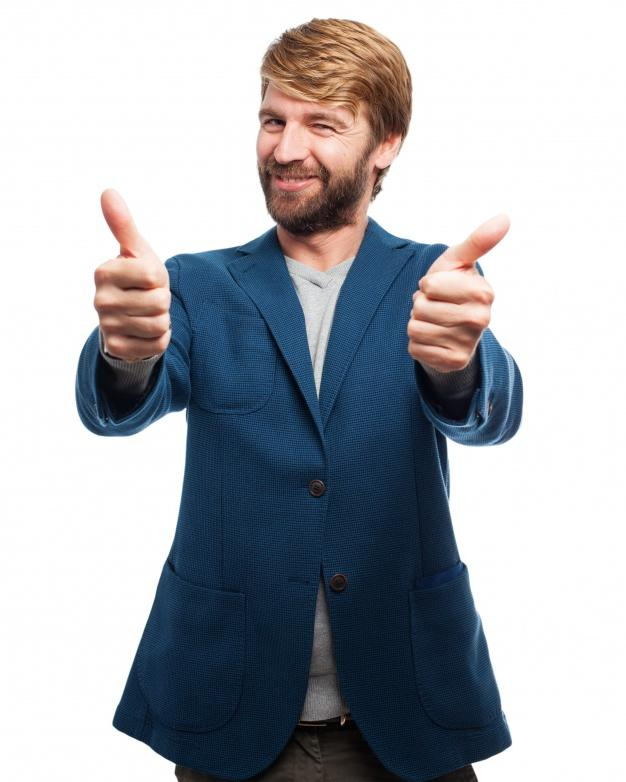thumbsup: (406, 214, 510, 369), (94, 189, 172, 358)
